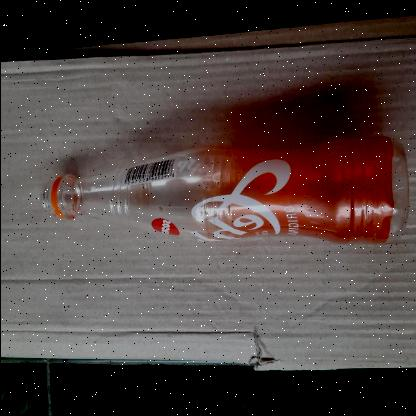Plastic Bottle: (39, 136, 409, 246)
